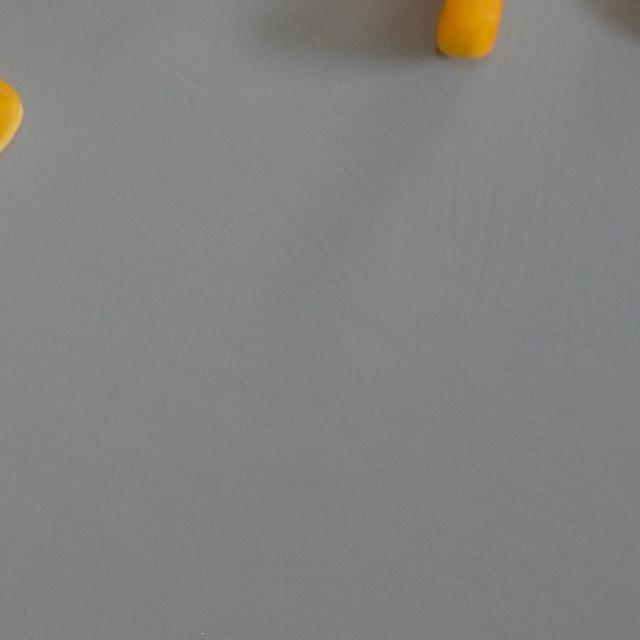estandar: (432, 0, 506, 60)
no_canjicado: (0, 52, 24, 178)
